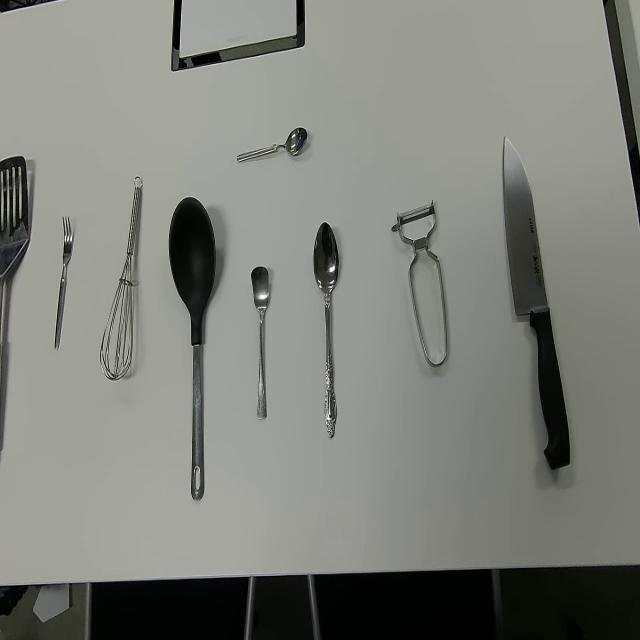Desert-Spoon: (312, 220, 340, 440)
Dinner-Fork: (54, 212, 73, 352)
Kitchen-Knife: (502, 134, 571, 470)
Peeler: (390, 198, 447, 368)
Serving-Spoon: (168, 195, 217, 506), (0, 152, 30, 459)
Tea-Spoon: (250, 264, 270, 421), (235, 125, 308, 166)
Whisk: (99, 174, 143, 382)
